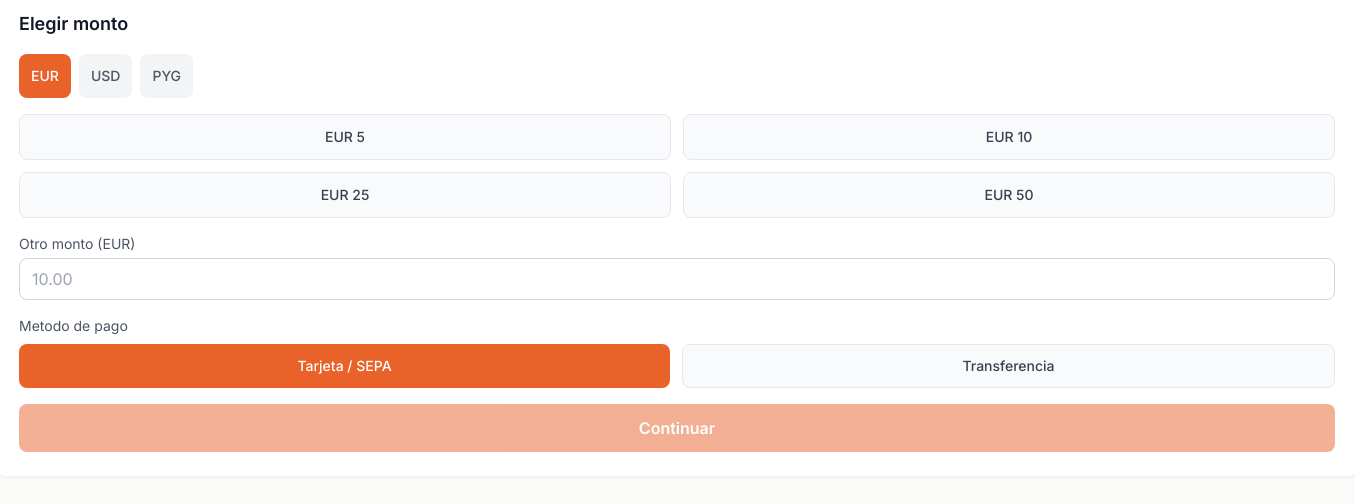
Test case: DonationForm — amount step › shows error when amount exceeds campaign maximum
In the number field: (677, 279) [19, 258, 1335, 300], type "100"
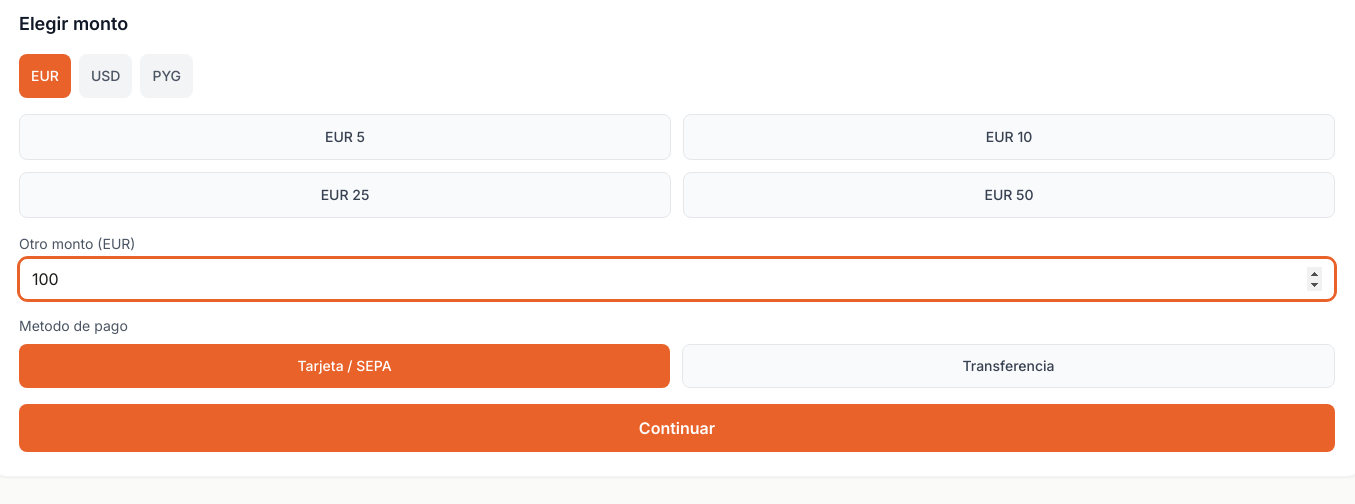
Click the button "Continuar": click(677, 428) [19, 404, 1335, 452]
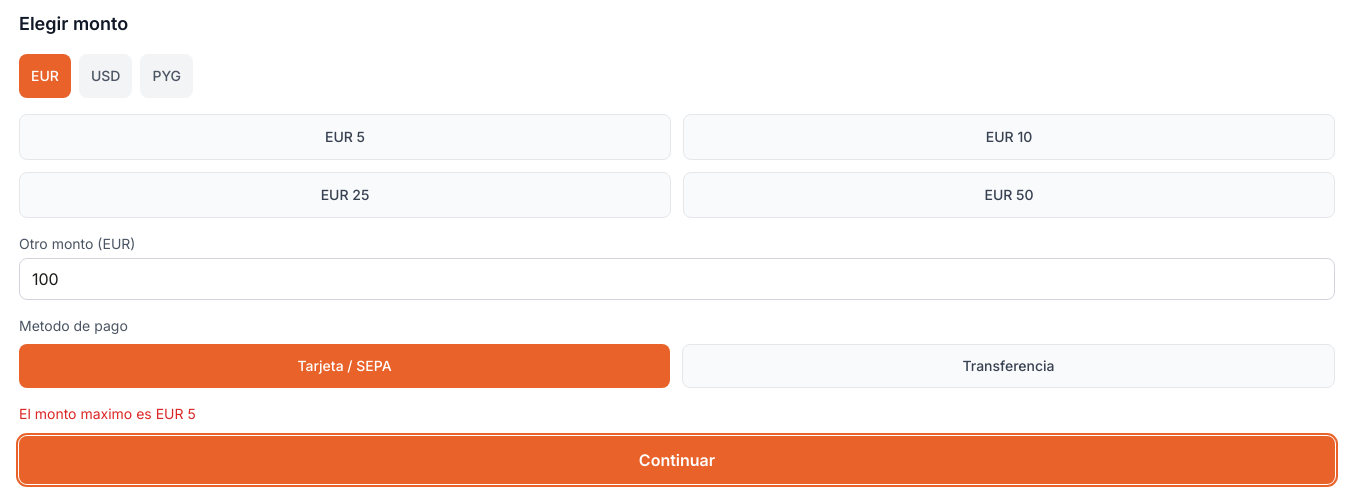
Now the text "El monto maximo es EUR 5" is shown, box [19, 405, 196, 422]
